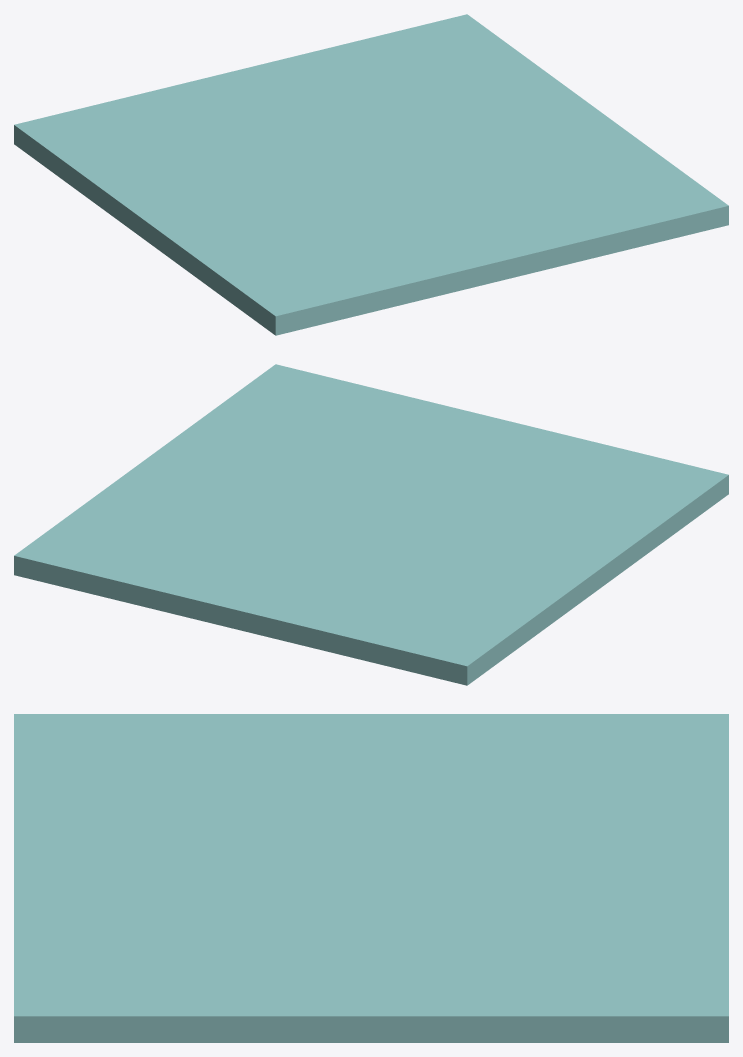
Rendered from _eilling.fbx.
3 renders of one model, top to bottom at view 1: azimuth 30°, elevation 25°; view 2: azimuth 150°, elevation 25°; view 3: azimuth 270°, elevation 25°, orthographic. The views are drawn at different scales.
Visible parts, largest first — view 1: Ceilling; view 2: Ceilling; view 3: Ceilling.
Part boxes in pixels (x1,y1,x2,y2): Ceilling: (14,14,728,335); Ceilling: (14,364,728,685); Ceilling: (14,714,728,1042).
Size of the model in its own units: 589 by 39.36 by 589.
